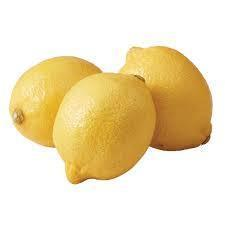lemon: (53, 72, 157, 184), (119, 46, 212, 151), (9, 56, 103, 148)
